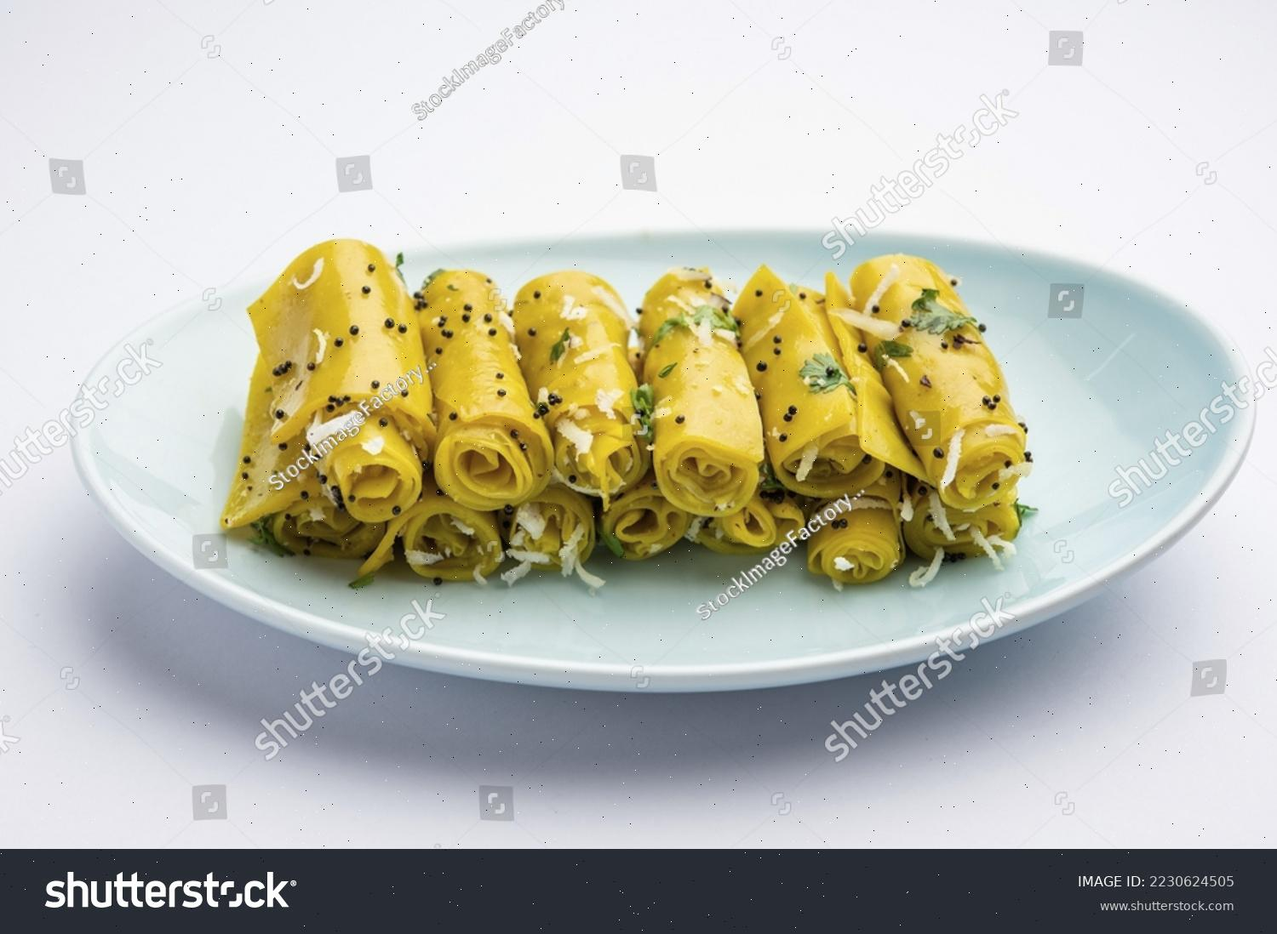khandvi: (275, 274, 1060, 559)
